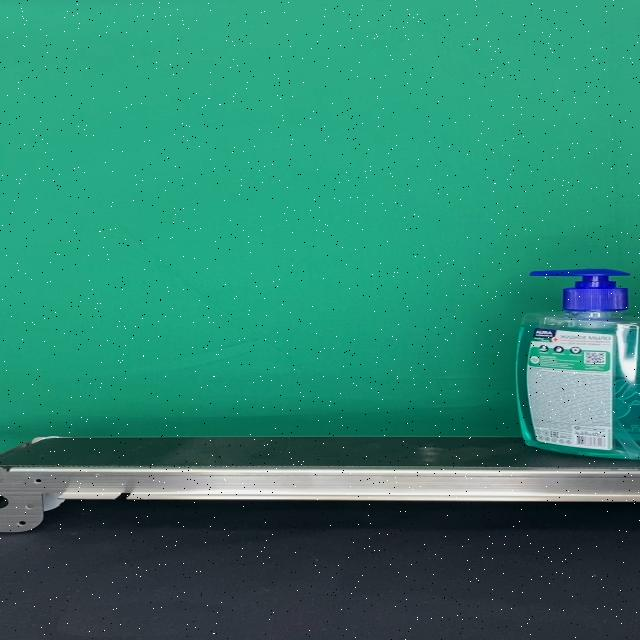Bottle: (514, 270, 640, 460)
Cap: (530, 270, 631, 312)
